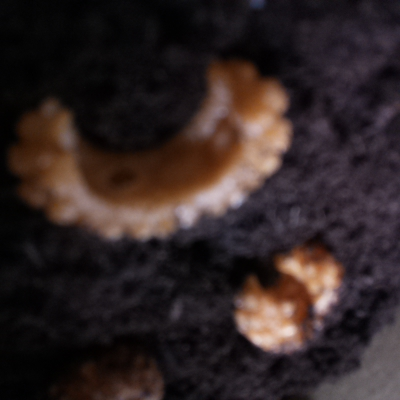eggs: (6, 52, 297, 247), (225, 236, 344, 361)
